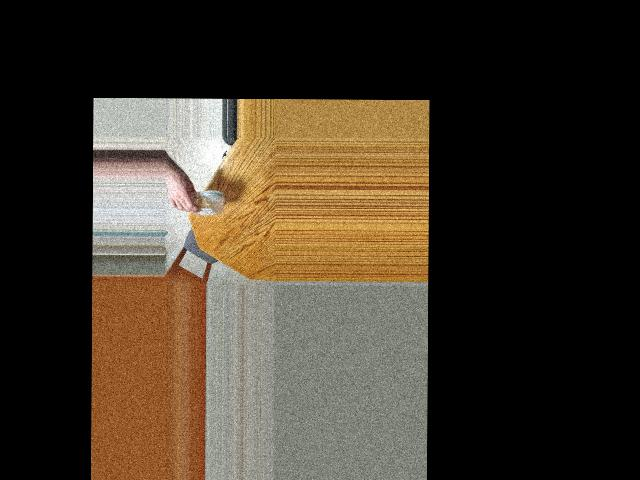cheese: (182, 180, 228, 222)
